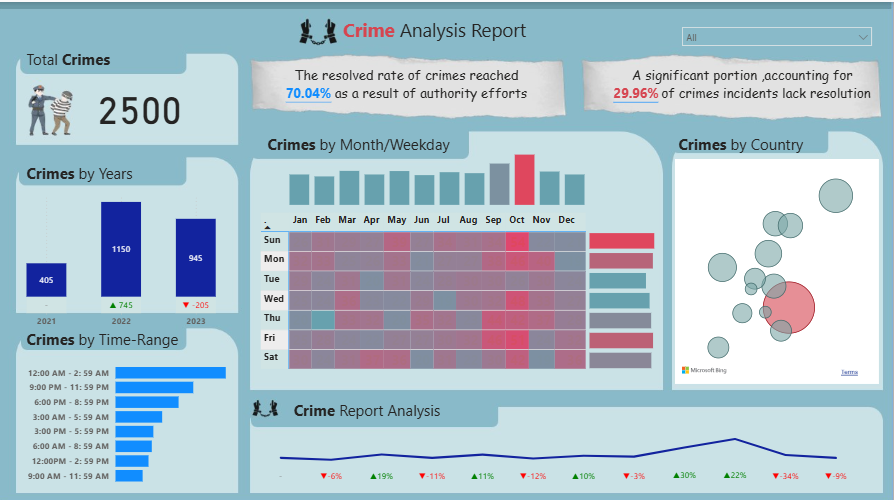

Layout of this report page (visuals, bound fields, positions):
{"tool":"powerbi","page":{"name":"Crime Analysis Report 1","canvas":[1280,720],"ordinal":0},"visuals":[{"type":"card","fields":{"Values":["Calculation.Total Crimes"]},"box":[118.6,110,172.9,77.1],"z":0},{"type":"clusteredBarChart","fields":{"Category":["Crimes Data.Time Group"],"Y":["Calculation.Total Crimes"]},"box":[38.6,500,334.3,198.6],"z":1000},{"type":"pivotTable","fields":{"Rows":["DateTable.WeekDay"],"Columns":["DateTable.MONTH"],"Values":["Calculation.Total Crimes"]},"box":[372.9,295.7,495.7,282.9],"z":2000},{"type":"clusteredColumnChart","fields":{"Y":["Calculation.Total Crimes"],"Category":["DateTable.MONTH"]},"box":[414.3,182.9,431.4,112.9],"z":3000},{"type":"clusteredBarChart","fields":{"Y":["Calculation.Total Crimes"],"Category":["DateTable.WeekDay"]},"box":[841.4,317.1,108.6,211.4],"z":4000},{"type":"columnChart","fields":{"Y":["Calculation.Blank Measure (Month)","Calculation.Total Crimes"],"Category":["DateTable.YEAR"]},"box":[38.6,265.7,280,208.6],"z":5000},{"type":"lineChart","fields":{"Category":["DateTable.MONTH"],"Y":["Calculation.Blank Measure (Month)","Calculation.Total Crimes"]},"box":[372.9,590,860,108.6],"z":6000},{"type":"textbox","box":[400,85.7,372.9,62.9],"z":7000},{"type":"textbox","box":[868.6,85.7,391.4,82.9],"z":8000},{"type":"map","fields":{"Category":["Crimes Data.Country"],"Size":["Calculation.Total Crimes"]},"box":[968.6,224.3,291.4,321.4],"z":9000},{"type":"textbox","box":[38.6,61.4,228.6,48.6],"z":10000},{"type":"textbox","box":[38.6,224.3,194.3,41.4],"z":11000},{"type":"textbox","box":[38.6,461.4,252.9,54.3],"z":12000},{"type":"textbox","box":[382.9,182.9,307.1,41.4],"z":13000},{"type":"textbox","box":[372.9,562.9,331.4,51.4],"z":14000},{"type":"textbox","box":[968.6,182.9,240,41.4],"z":15000},{"type":"textbox","box":[468.6,15.7,512.9,68.6],"z":16000},{"type":"slicer","fields":{"Values":["Crime Types.Crime"]},"box":[968.6,25.7,291.4,58.6],"z":17000}]}

Visuals, with their boxes in screenshot pixels (x1, y1, x2, y2), scaled from the page's 1280x720 canvas onto the 894x500 screenshot:
card - Calculation.Total Crimes: select_region(83, 76, 204, 130)
clusteredBarChart - Crimes Data.Time Group x Calculation.Total Crimes: select_region(27, 347, 260, 485)
pivotTable - DateTable.WeekDay x DateTable.MONTH: select_region(260, 205, 607, 402)
clusteredColumnChart - Calculation.Total Crimes x DateTable.MONTH: select_region(289, 127, 591, 205)
clusteredBarChart - Calculation.Total Crimes x DateTable.WeekDay: select_region(588, 220, 664, 367)
columnChart - Calculation.Blank Measure (Month) x Calculation.Total Crimes: select_region(27, 185, 223, 329)
lineChart - DateTable.MONTH x Calculation.Blank Measure (Month): select_region(260, 410, 861, 485)
textbox: select_region(279, 60, 540, 103)
textbox: select_region(607, 60, 880, 117)
map - Crimes Data.Country x Calculation.Total Crimes: select_region(677, 156, 880, 379)
textbox: select_region(27, 43, 187, 76)
textbox: select_region(27, 156, 163, 185)
textbox: select_region(27, 320, 204, 358)
textbox: select_region(267, 127, 482, 156)
textbox: select_region(260, 391, 492, 427)
textbox: select_region(677, 127, 844, 156)
textbox: select_region(327, 11, 686, 59)
slicer - Crime Types.Crime: select_region(677, 18, 880, 59)
